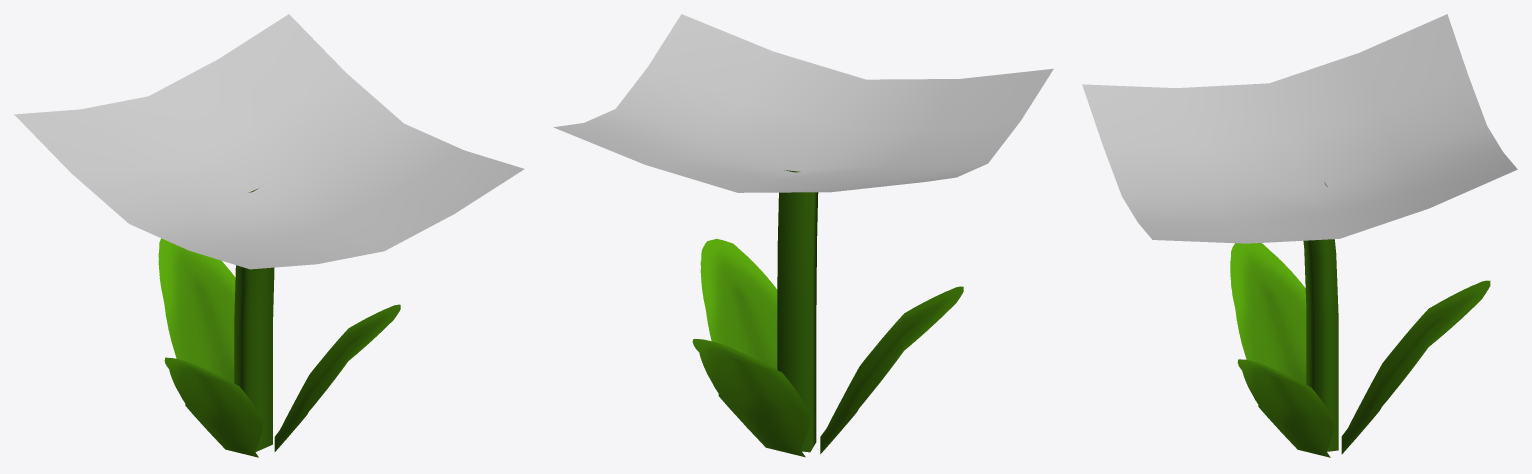
Rendered from Flower.fbx.
3 renders of one model, left to right at view 1: azimuth 30°, elevation 25°; view 2: azimuth 150°, elevation 25°; view 3: azimuth 270°, elevation 25°, orthographic. The views are drawn at different scales.
Visible parts, largest first — view 1: Petals, Lefa1, Stem1, Lefa2, Lefa3; view 2: Petals, Stem1, Lefa3, Lefa1, Lefa2; view 3: Petals, Lefa2, Stem1, Lefa1, Lefa3.
Part boxes in pixels (box(x1,y1,x2,y2)): Petals: box(14, 14, 524, 269); Lefa1: box(158, 238, 235, 382); Stem1: box(234, 188, 274, 451); Lefa2: box(164, 357, 263, 457); Lefa3: box(274, 304, 400, 451); Petals: box(553, 14, 1053, 192); Stem1: box(777, 170, 818, 452); Lefa3: box(700, 238, 777, 369); Lefa1: box(692, 339, 810, 457); Lefa2: box(820, 286, 963, 453); Petals: box(1082, 14, 1517, 243); Lefa2: box(1230, 243, 1306, 384); Stem1: box(1303, 182, 1338, 451); Lefa1: box(1341, 280, 1490, 454); Lefa3: box(1237, 359, 1335, 457).
Bounding box in the file's own units: 10.41 × 8.95 × 10.36.
